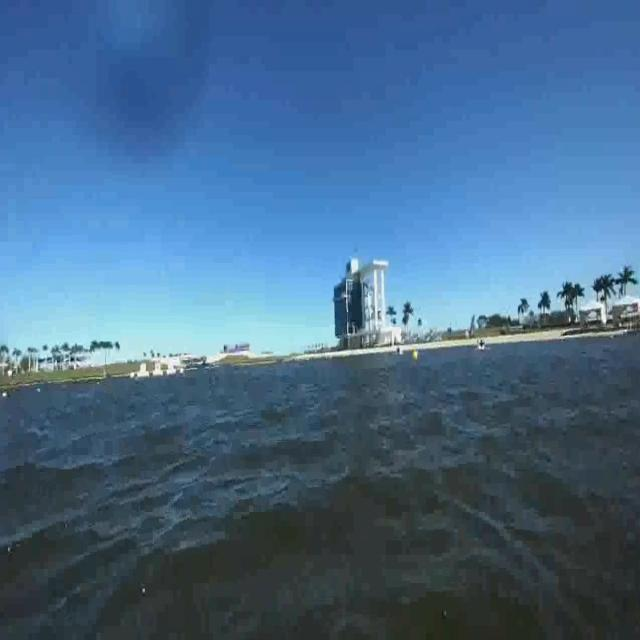yellow-buoy: (412, 349, 420, 363)
